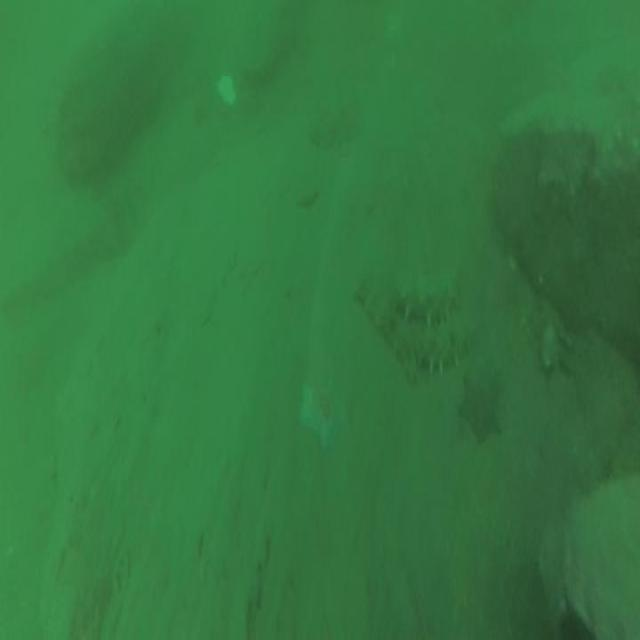holothurian: (389, 264, 468, 329), (408, 318, 484, 380)
